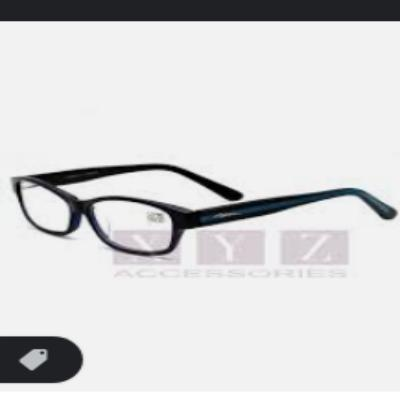glasses: (4, 153, 399, 261)
